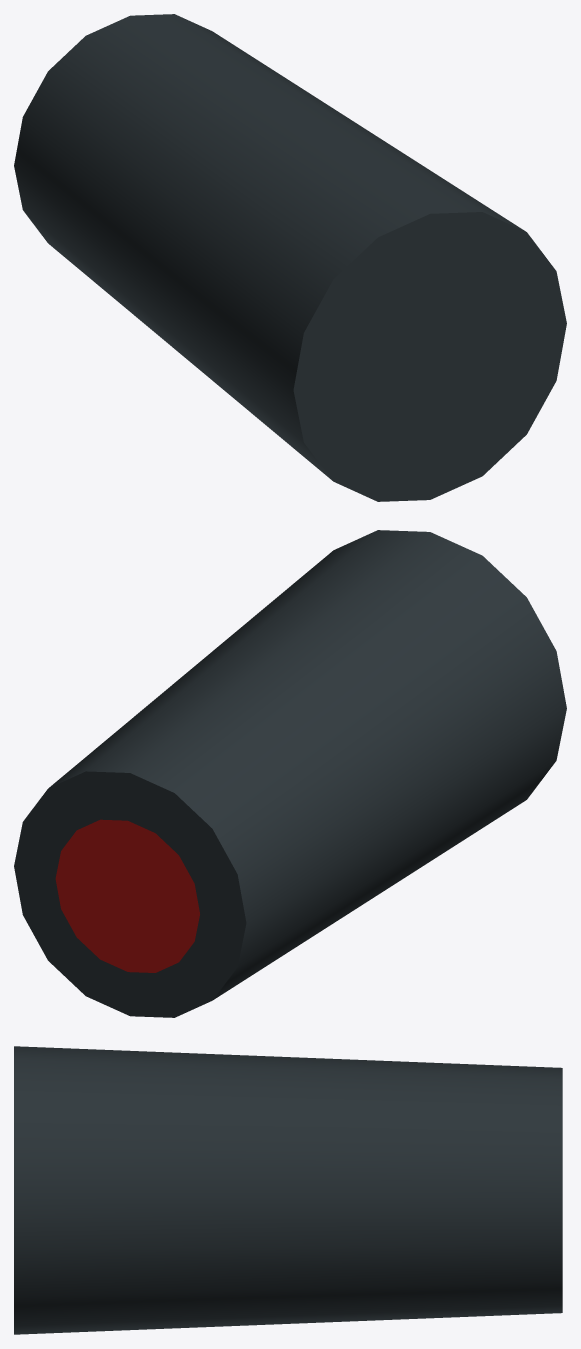
The model's file is medium-laser-round.glb.
3 renders of one model, top to bottom at view 1: azimuth 30°, elevation 25°; view 2: azimuth 150°, elevation 25°; view 3: azimuth 270°, elevation 25°, orthographic. The views are drawn at different scales.
Visible parts, largest first — view 1: mount; view 2: mount; view 3: mount.
Boxes of the visible parts, x1=… form: mount: x1=14, y1=14, x2=566, y2=501; mount: x1=14, y1=530, x2=566, y2=1017; mount: x1=14, y1=1046, x2=562, y2=1334.
Size of the model in its own units: 2 by 2 by 3.83.
